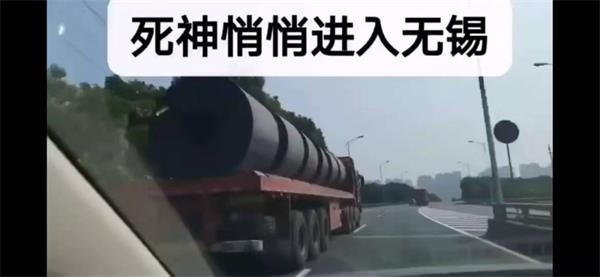chaozhai: (152, 71, 375, 275)
